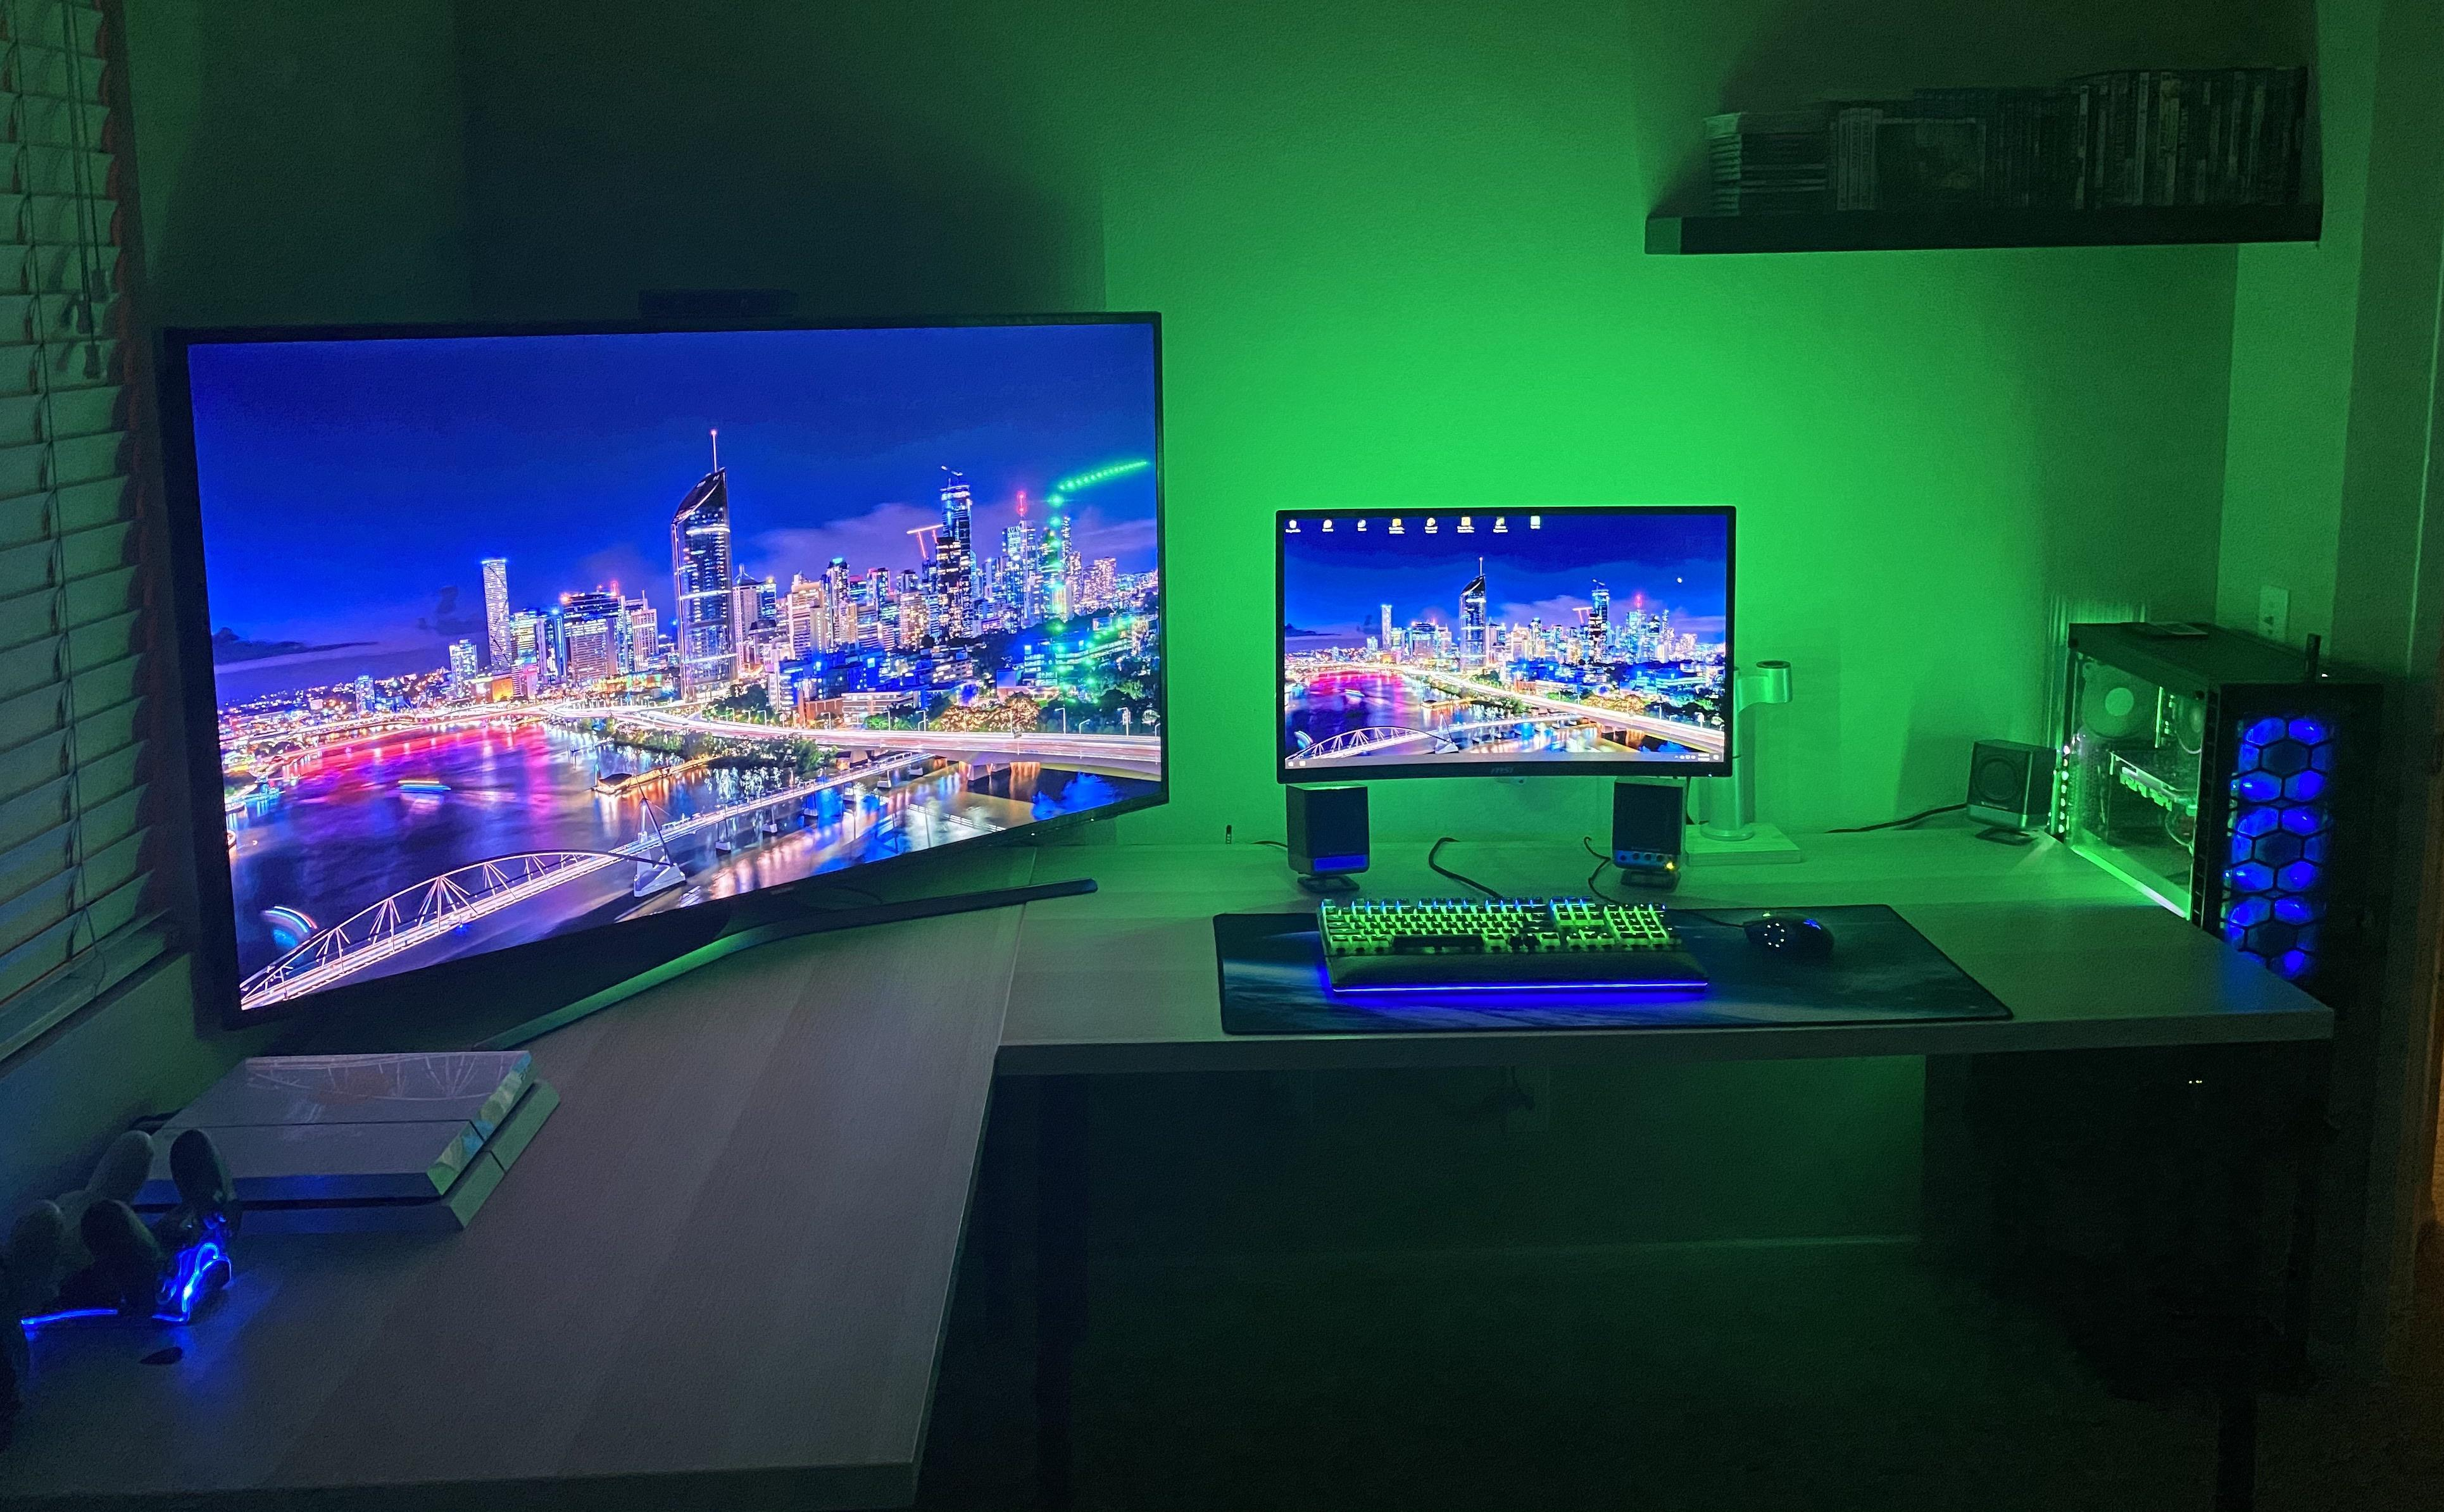Desk (Generic): (0, 829, 2374, 1509)
Desktop (Windows): (2062, 620, 2383, 1027)
External Speakers (Generic): (1964, 739, 2056, 847), (1285, 782, 1370, 896), (1611, 775, 1690, 894)
Gaming Console: (124, 1053, 562, 1234)
Gaming Controller: (80, 1121, 244, 1332), (0, 1133, 155, 1341)
Keyboard (Gaming): (1318, 896, 1709, 993)
Monitor (Landscape): (152, 311, 1170, 1055), (1276, 506, 1735, 782)
Monitor Arm: (1683, 658, 1802, 866)
Mouse (Gaming): (1742, 911, 1835, 959)
Mousepad (Gaming): (1210, 903, 2016, 1032)
